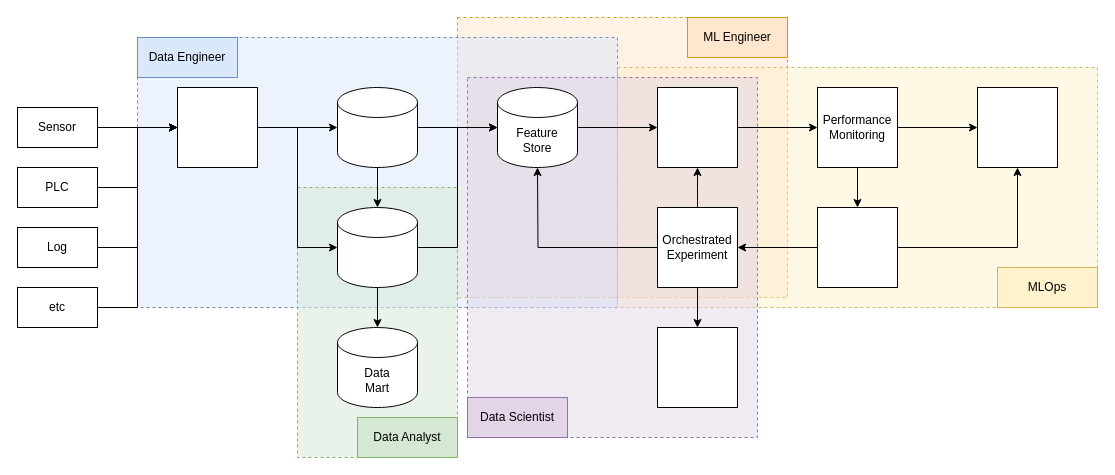
Image size: 1115x475. Some labels were removed from this diagram. The centre of each missing label's shape, as x and y in pixels:
"Automated Pipeline" goes at [857,247].
"Data Lake" goes at [377,127].
"Data Source" goes at [217,127].
"Data Warehouse" goes at [377,247].
"Deployment" goes at [1017,127].
"Model" goes at [697,127].
"Report" goes at [697,367].
